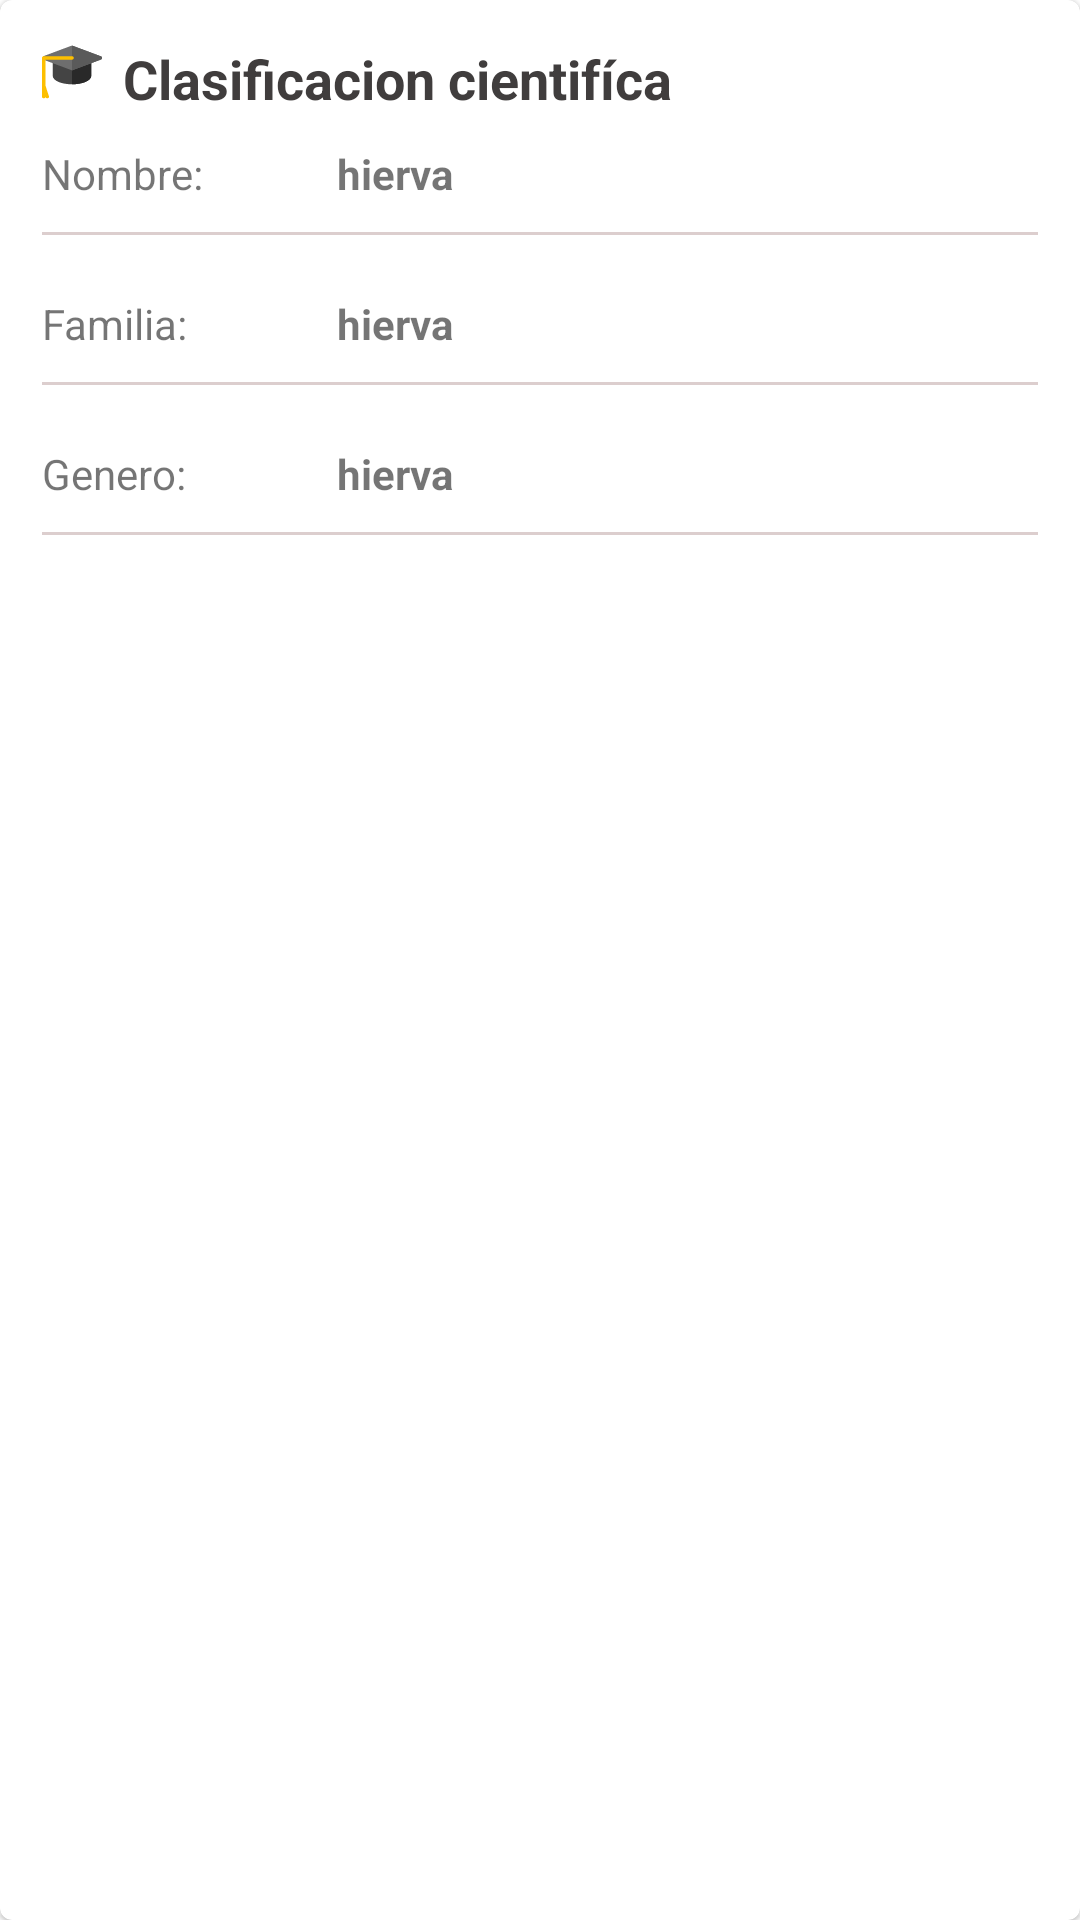

Icons on this 1080 × 1920 Android screen, each with its box as rect(x1, y1, x2, y2):
sombrero de la graduacion: rect(42, 45, 102, 99)
